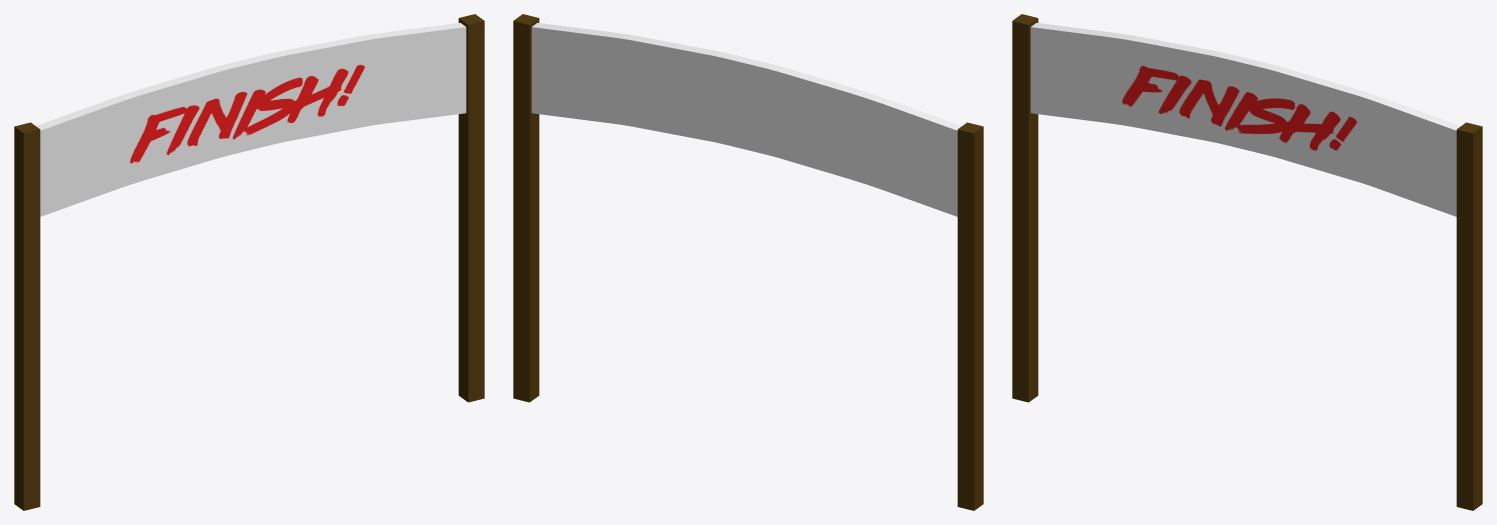
The model's file is FinishLine.FBX.
The picture shows the model from 3 angles, left to right: view 1: azimuth 30°, elevation 25°; view 2: azimuth 150°, elevation 25°; view 3: azimuth 330°, elevation 25°; orthographic projection.
Parts seen in each view (by area): view 1: Box001; view 2: Box001; view 3: Box001.
Boxes of the visible parts, left/top/right/bottom form: Box001: left=14, top=14, right=484, bottom=510; Box001: left=513, top=14, right=983, bottom=510; Box001: left=1012, top=14, right=1482, bottom=510.
Bounding box in the file's own units: 49.6 × 40.09 × 1.78.
